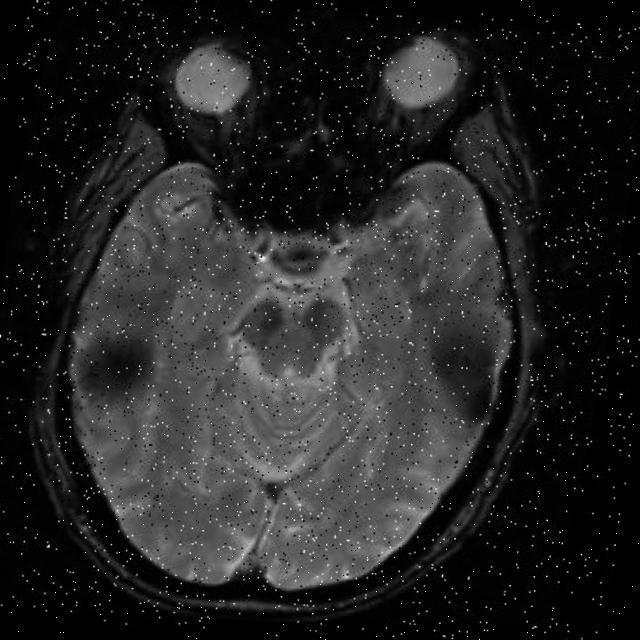EMCI: (391, 279, 530, 446), (62, 306, 215, 438)
